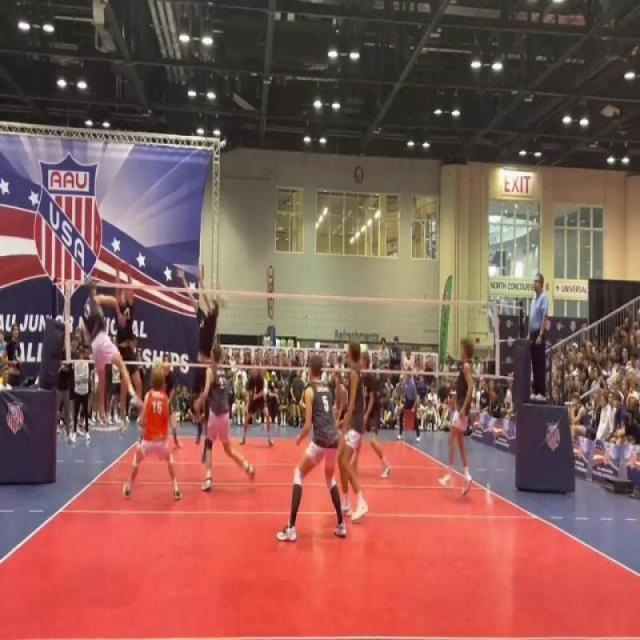volleyball: (216, 289, 231, 312)
